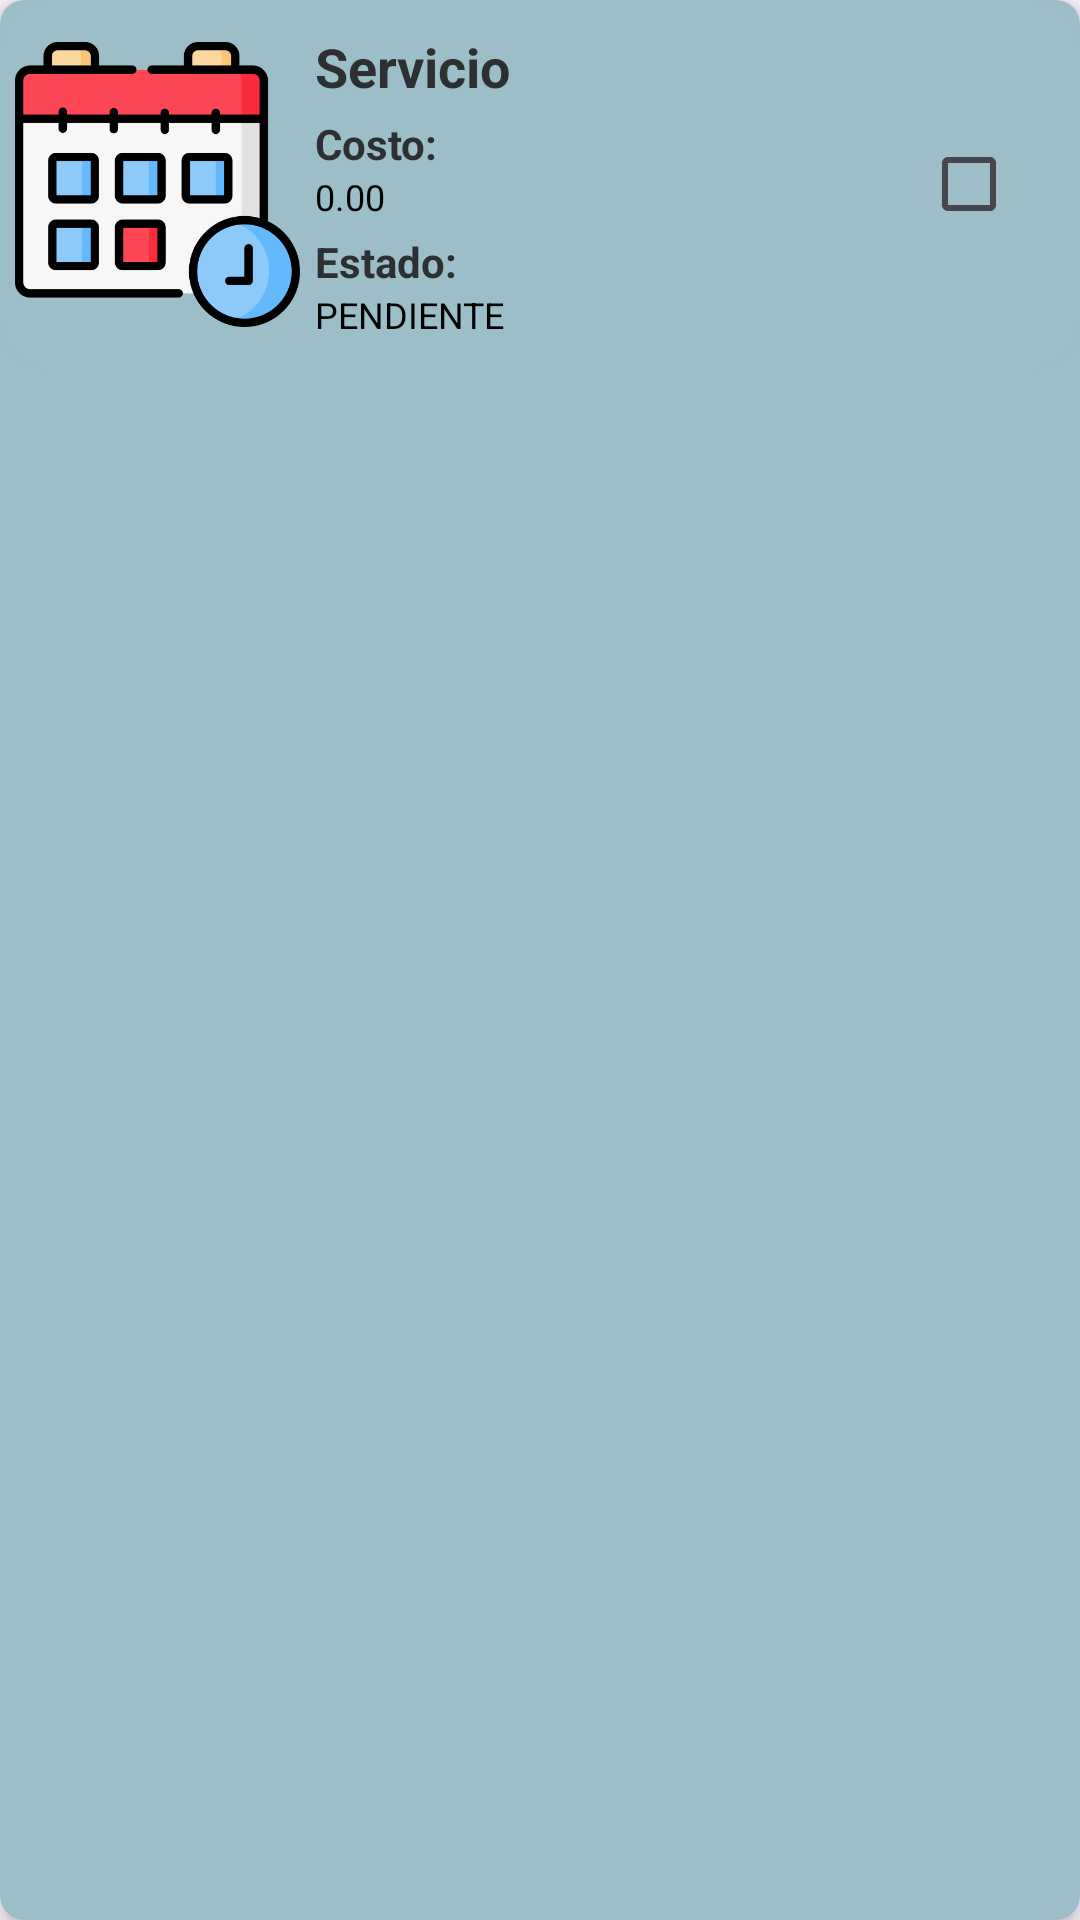

Icon bounding boxes for this 1080px x 1920px phone screenshot, format detection(x1, y1, x2, y2):
cita programada: detection(15, 42, 300, 327)
